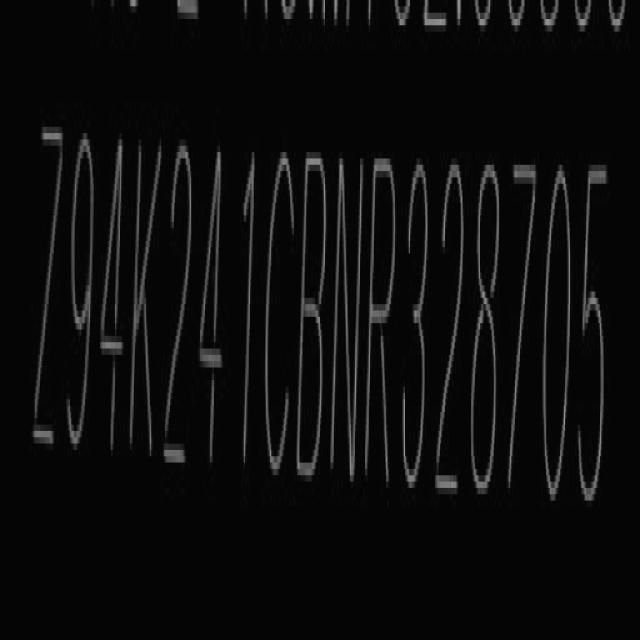0: (544, 158, 573, 505)
1: (236, 146, 256, 483)
2: (163, 135, 194, 475), (437, 155, 465, 496)
3: (403, 155, 432, 496)
4: (99, 127, 128, 466), (201, 141, 228, 481)
5: (581, 154, 611, 512)
7: (509, 150, 540, 502)
8: (469, 155, 498, 500)
9: (67, 124, 94, 466)
B: (300, 145, 332, 483)
C: (263, 148, 295, 484)
K: (131, 130, 162, 470)
N: (332, 148, 362, 488)
R: (366, 150, 398, 490)
Z: (33, 122, 66, 469)
